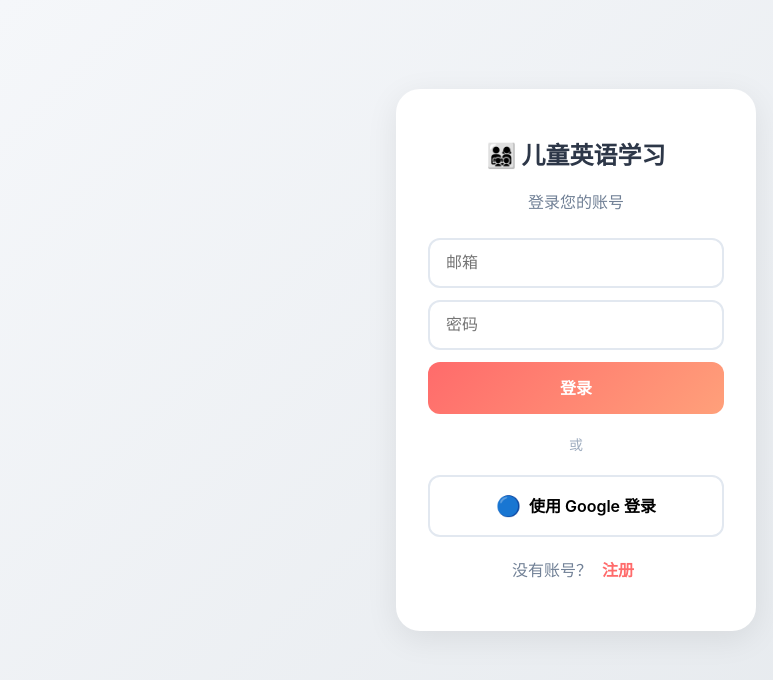
Test case: AuthPage › shows error message on login failure
Type "bad@test.com" into the field with placeholder "邮箱" at {"x": 576, "y": 262}, box [428,238,724,288]
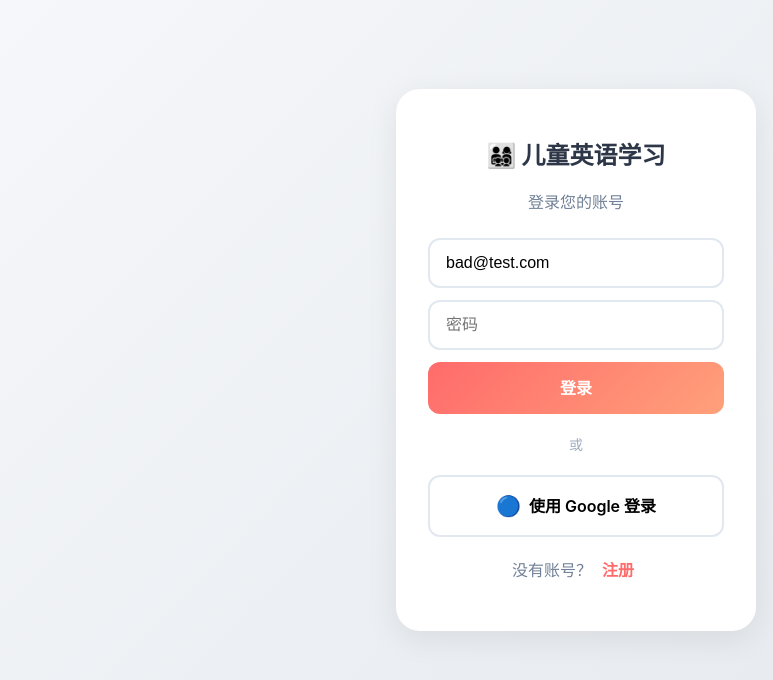
Type "wrong" into the password field with placeholder "密码" at {"x": 576, "y": 324}, box [428,300,724,350]
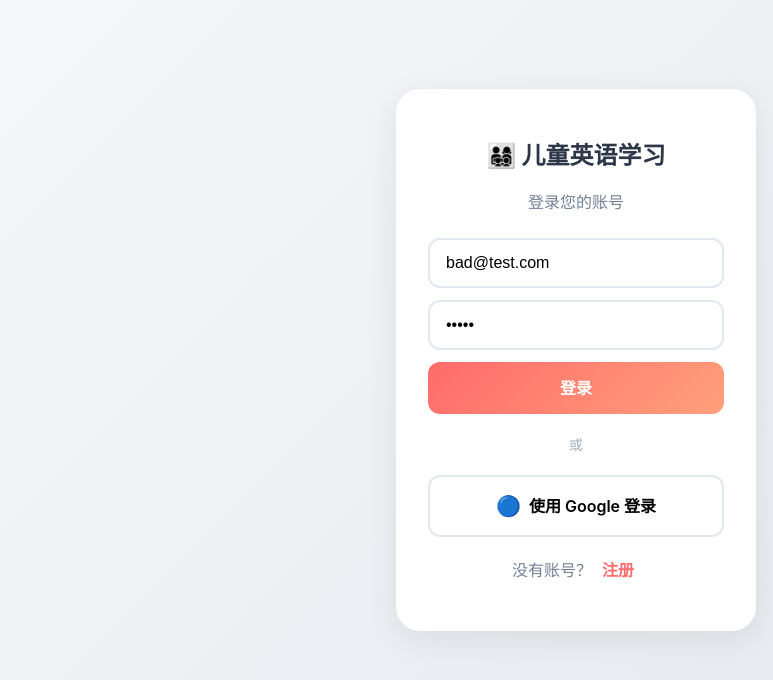
Click the button "登录" at {"x": 576, "y": 388}, box [428,362,724,414]
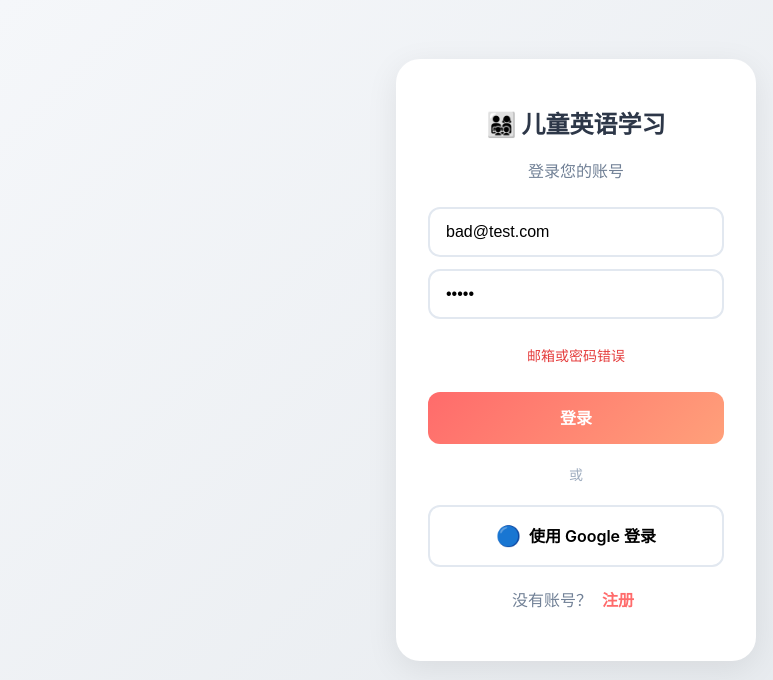
expect the text "邮箱或密码错误" is shown: met, box [527,347,625,364]
